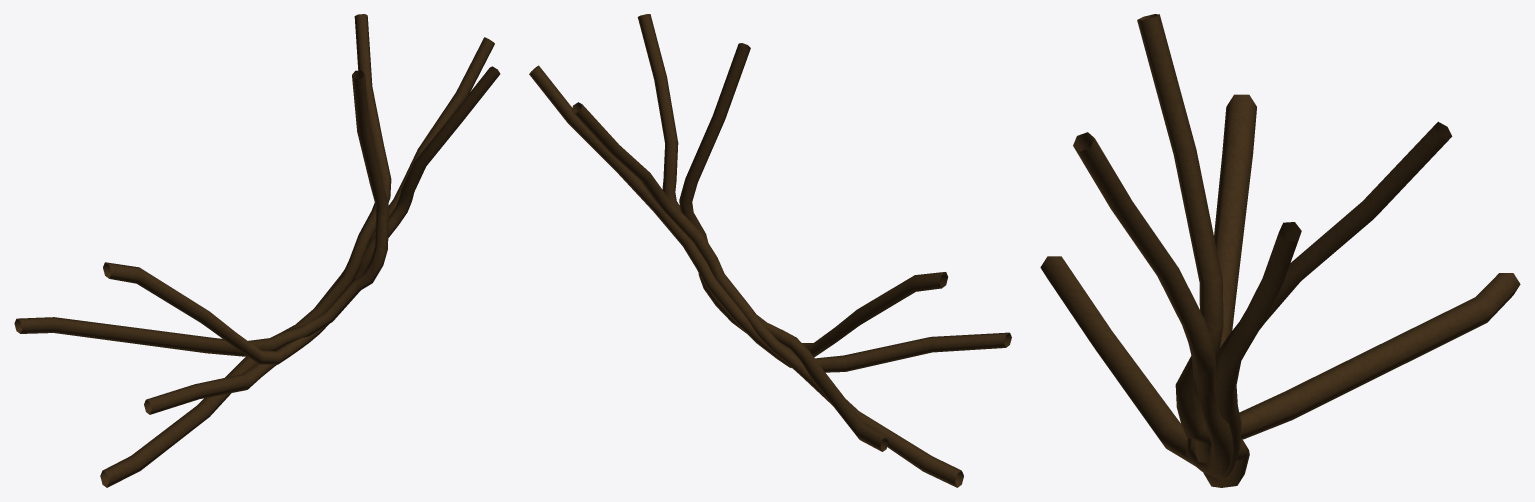
The model's file is TreeRoot1.fbx.
The picture shows the model from 3 angles, left to right: view 1: azimuth 30°, elevation 25°; view 2: azimuth 150°, elevation 25°; view 3: azimuth 270°, elevation 25°; orthographic projection. The views are drawn at different scales.
Visible parts, largest first — view 1: TreeRoot1; view 2: TreeRoot1; view 3: TreeRoot1.
Boxes of the visible parts, box(x1,y1,x2,y2) form: TreeRoot1: box(14, 14, 500, 487); TreeRoot1: box(529, 14, 1011, 487); TreeRoot1: box(1040, 14, 1520, 487).
Bounding box in the file's own units: 508 × 434 × 285.
